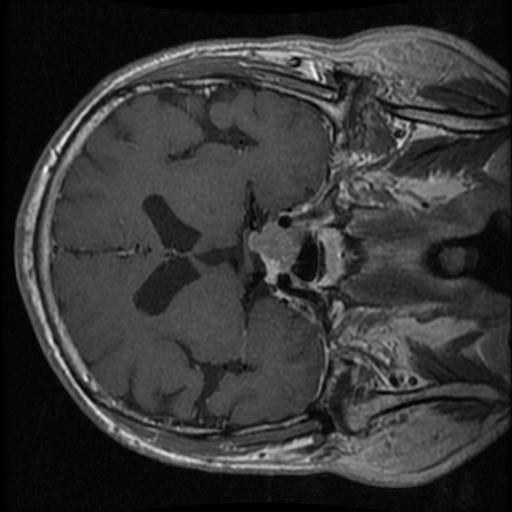pituitary tumour: (248, 220, 305, 285)
